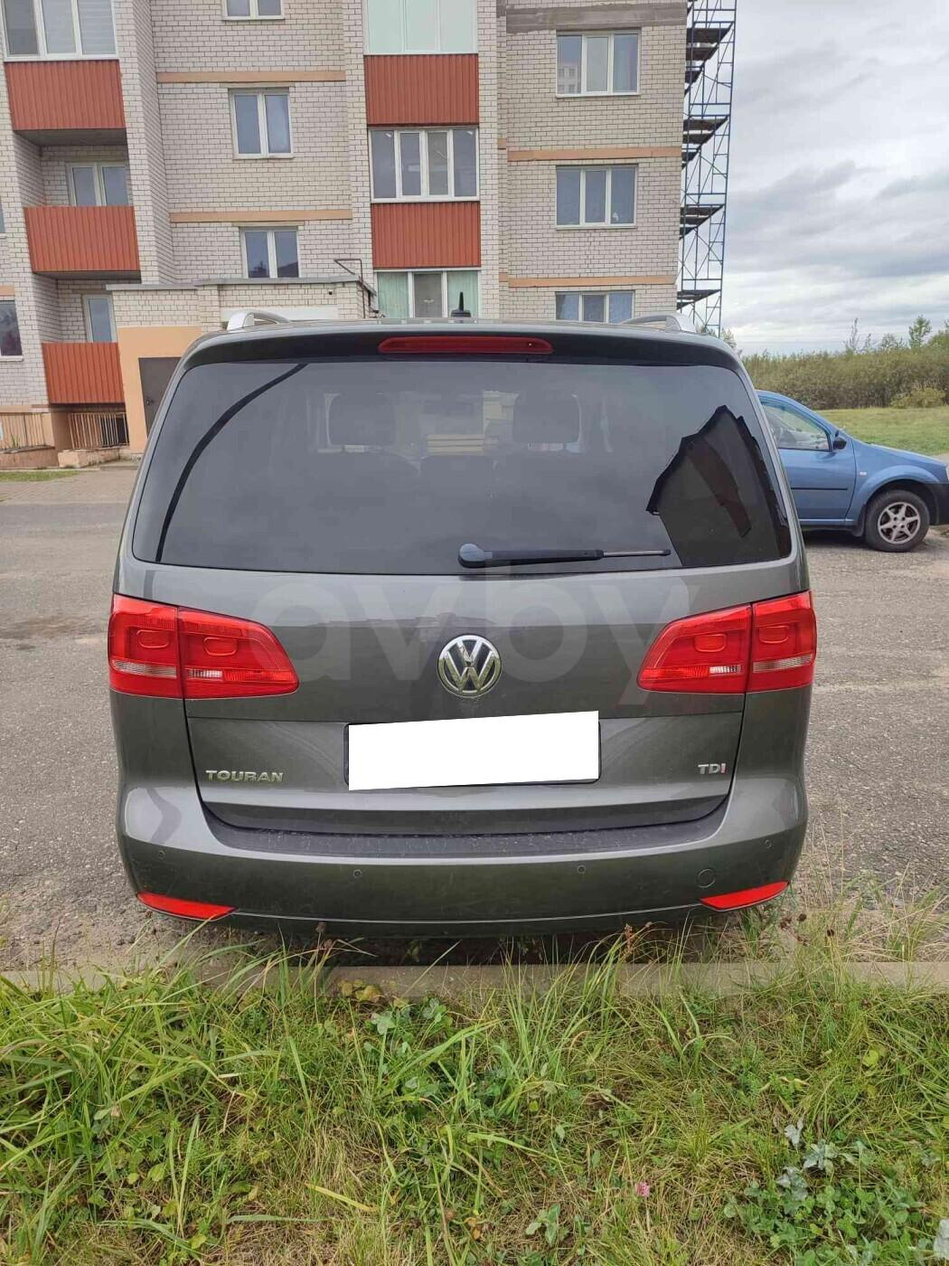Touran_2010-2015: (94, 306, 821, 964)
